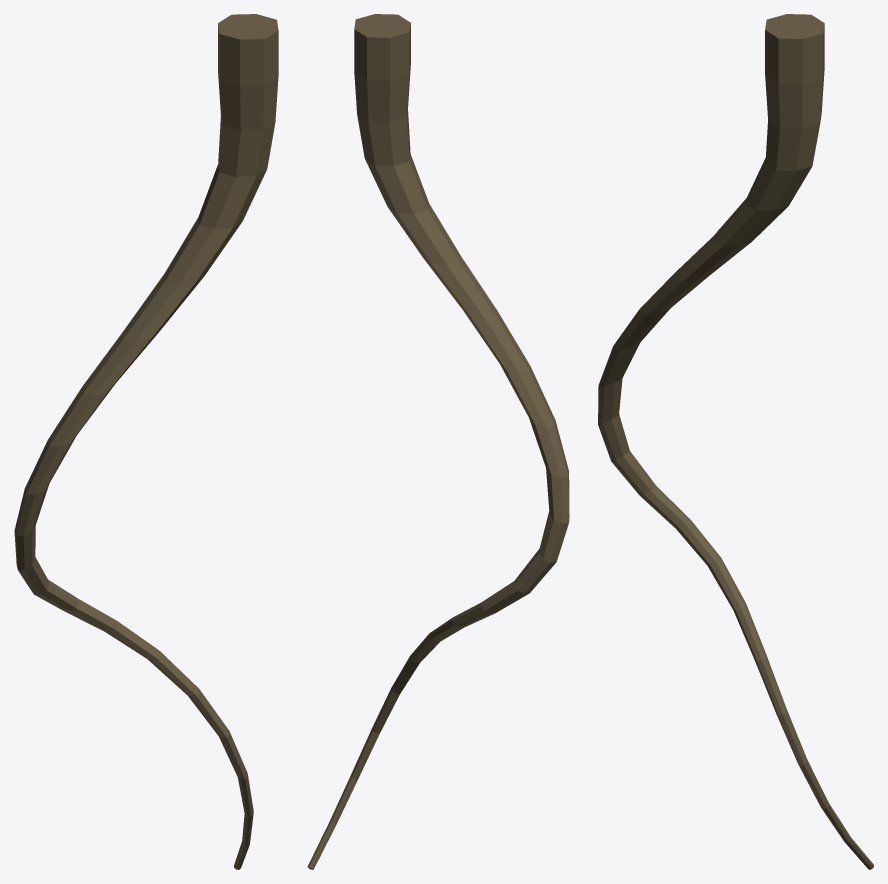
3 views of the same model, side by side, from view 1: azimuth 30°, elevation 25°; view 2: azimuth 150°, elevation 25°; view 3: azimuth 330°, elevation 25° (orthographic). The views are drawn at different scales.
Visible parts, largest first — view 1: Root.2.6; view 2: Root.2.6; view 3: Root.2.6.
Boxes of the visible parts, x1,y1,x2,y2 form: Root.2.6: (14, 14, 278, 869); Root.2.6: (307, 14, 569, 869); Root.2.6: (598, 14, 873, 869).
Bounding box in the file's own units: 115 × 384 × 48.98.
